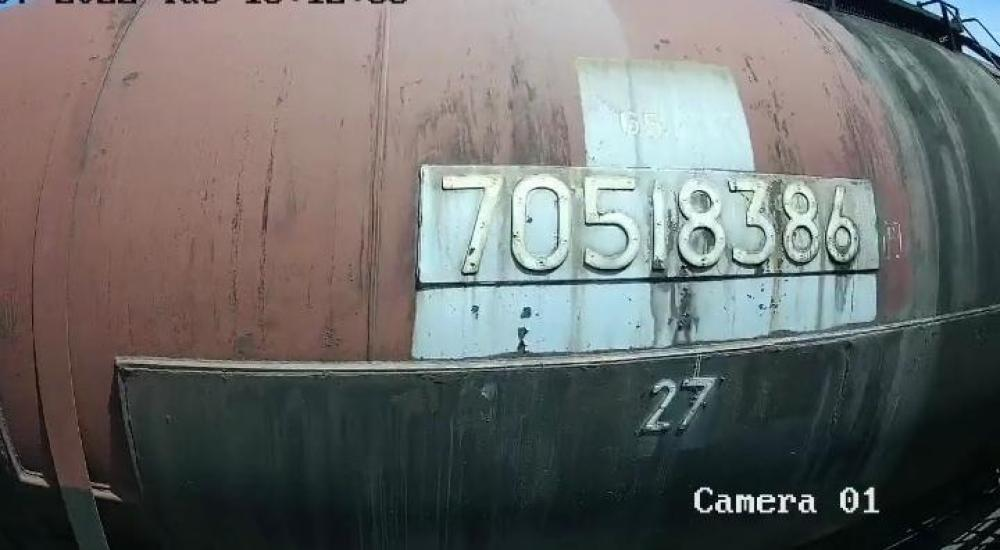Wagon-number: (438, 168, 862, 274)
